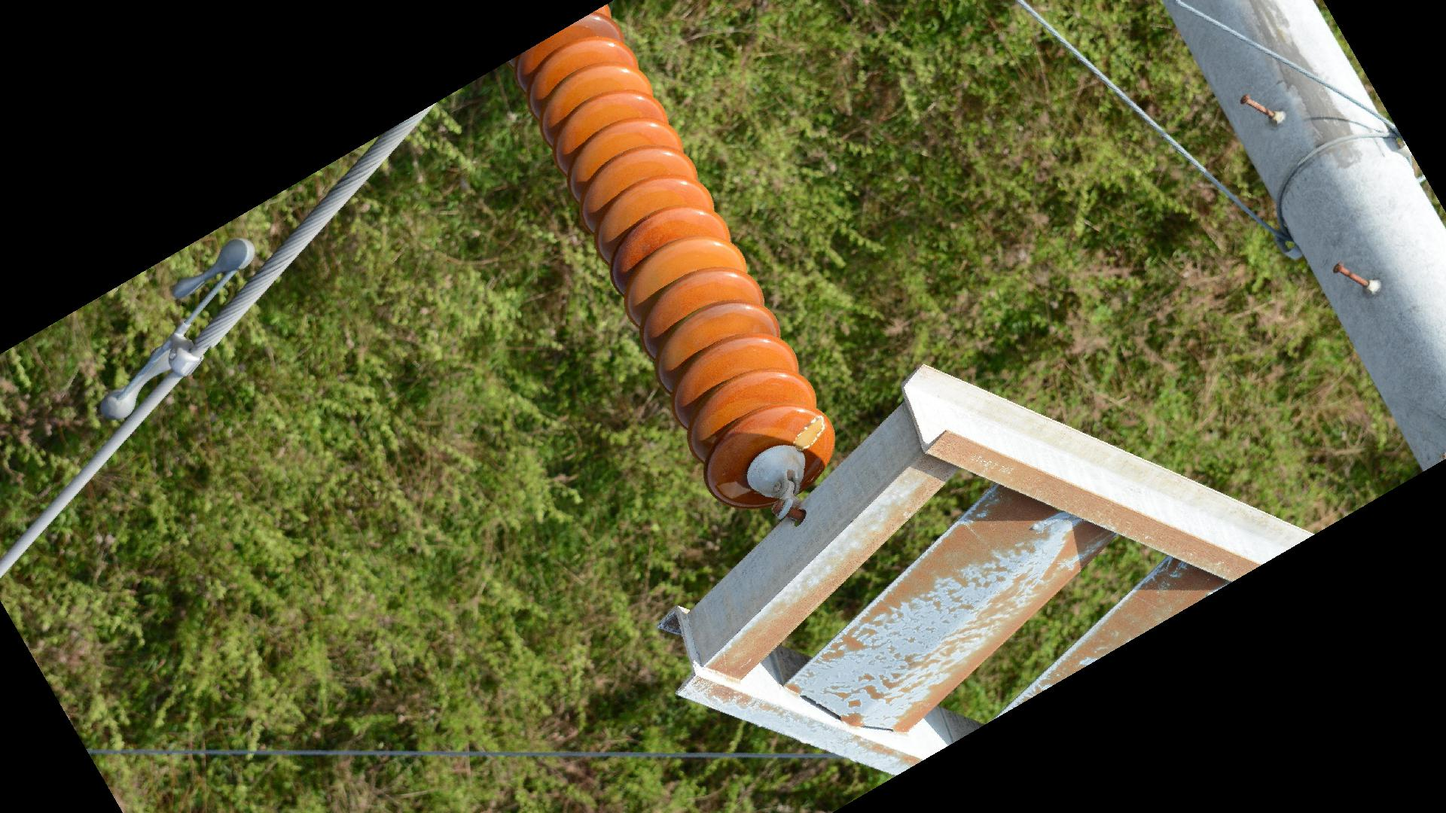insulator: (511, 1, 841, 515)
insulator_flashover: (791, 413, 827, 452)
